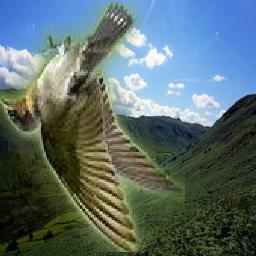Swallow: (0, 2, 185, 252)
